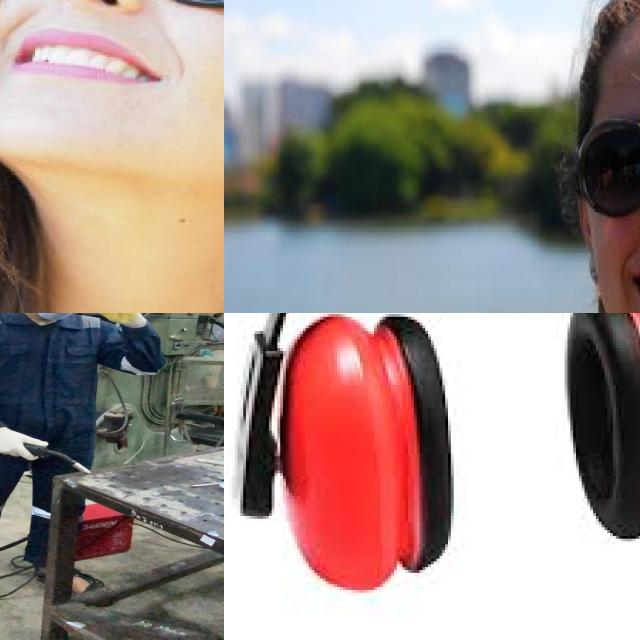Ear-protection: (224, 313, 640, 581)
face_mask: (31, 313, 97, 322)
face_nomask: (0, 0, 224, 131), (584, 116, 640, 313)
glasses: (580, 102, 640, 214)
hand_glove: (0, 427, 53, 461), (80, 313, 142, 324)
person: (489, 0, 640, 313), (0, 313, 150, 597)
